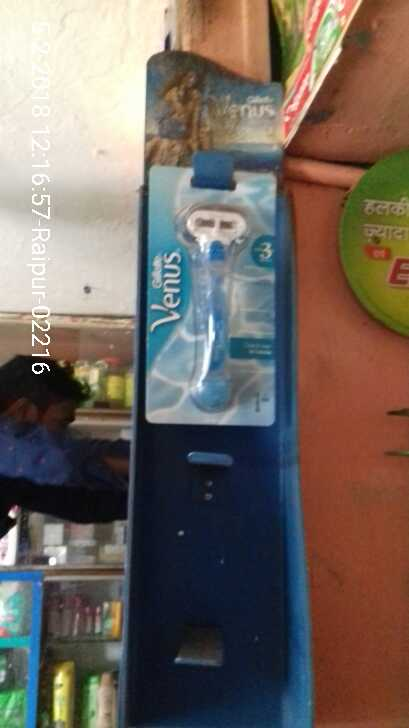venus: (152, 166, 276, 426)
